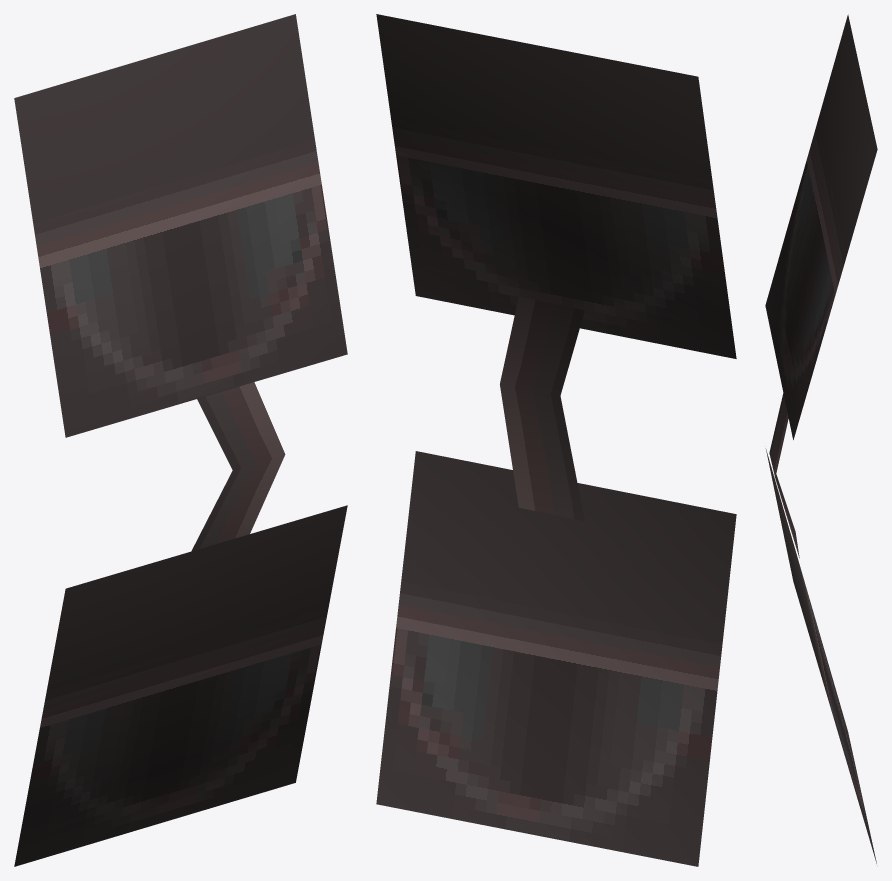
Rendered from acc_shade_tiny.dae.
The picture shows the model from 3 angles, left to right: view 1: azimuth 30°, elevation 25°; view 2: azimuth 150°, elevation 25°; view 3: azimuth 270°, elevation 25°; orthographic projection. The views are drawn at different scales.
Visible parts, largest first — view 1: acc_shade_tiny; view 2: acc_shade_tiny; view 3: acc_shade_tiny.
Part boxes in pixels (bbox=[...]): acc_shade_tiny: bbox=[14, 14, 347, 866]; acc_shade_tiny: bbox=[376, 14, 736, 866]; acc_shade_tiny: bbox=[765, 14, 877, 863].
Size of the model in its own units: 4.96 by 11.98 by 1.7.
1 material, 1 textured.
